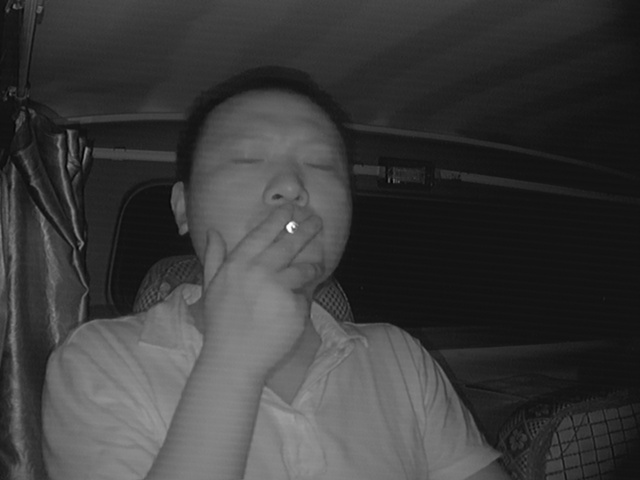hand: (237, 205, 331, 315)
